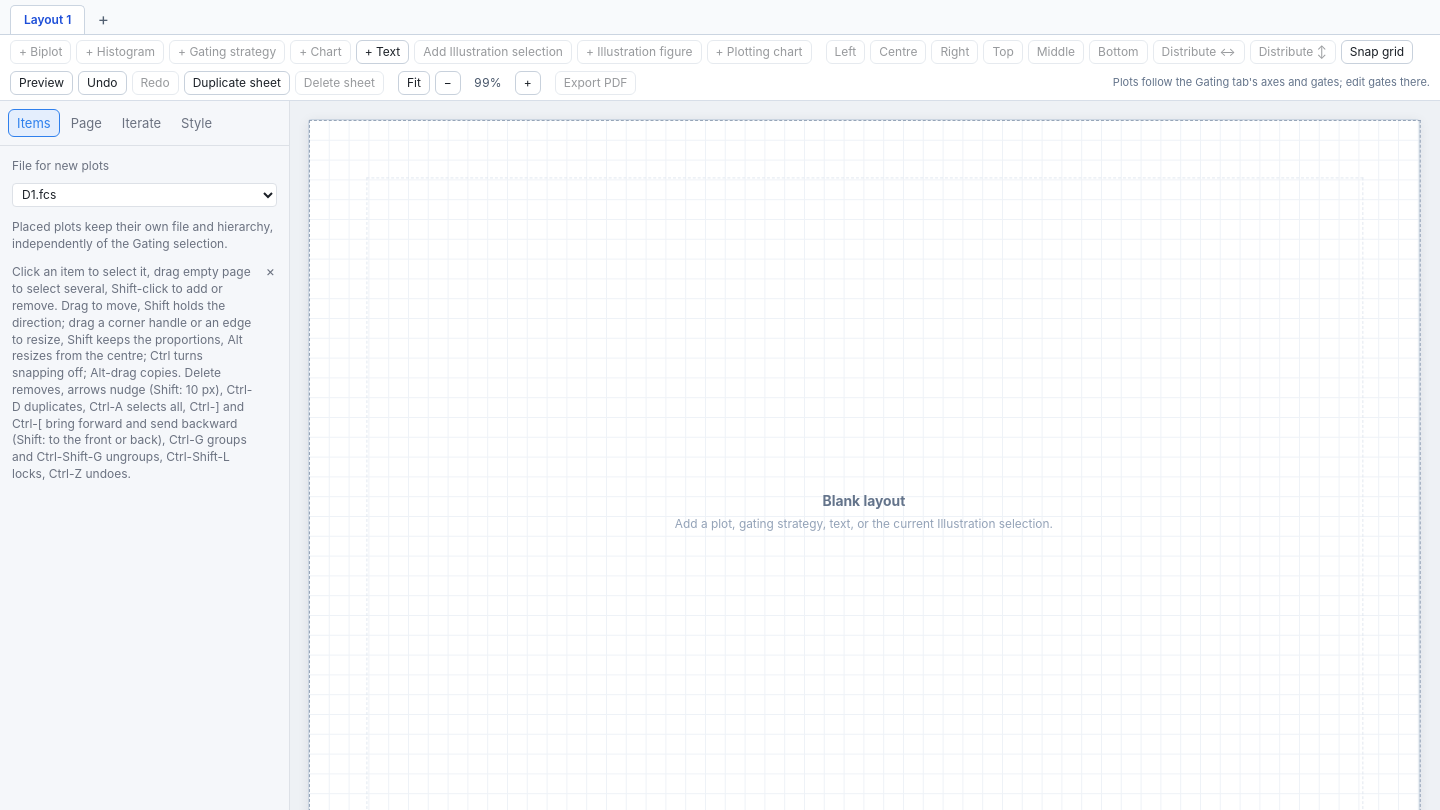
it: LayoutTab moving, copying and arranging › undoes an add another tab made, taking the layout as it was before as its first step
The width and height of the screenshot is (1440, 810).
Click the button "Undo" at [102, 83], box [78, 71, 127, 95]
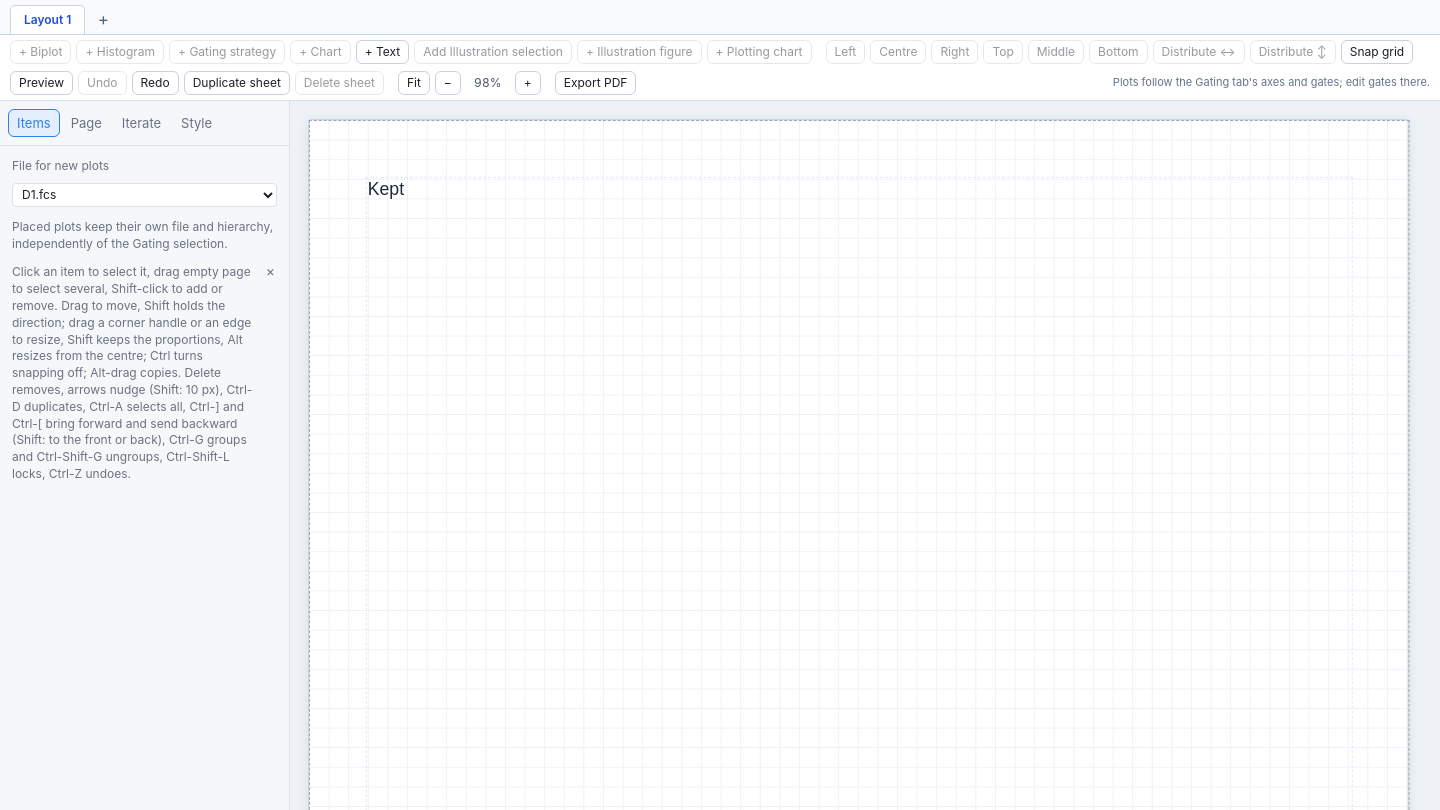
Result: the button "Undo" is disabled at [78, 71, 127, 95]
Result: the button "Redo" is enabled at [132, 71, 179, 95]
